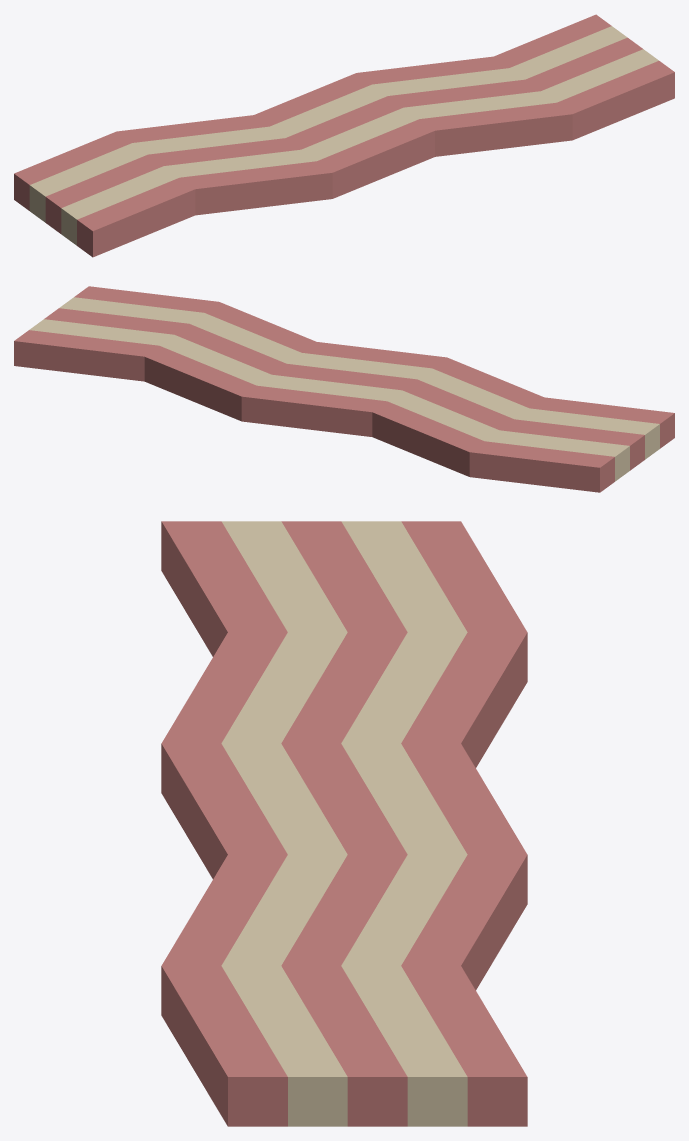
The model's file is bacon_2.glb.
3 renders of one model, top to bottom at view 1: azimuth 30°, elevation 25°; view 2: azimuth 150°, elevation 25°; view 3: azimuth 270°, elevation 25°, orthographic. The views are drawn at different scales.
Visible parts, largest first — view 1: bacon_2; view 2: bacon_2; view 3: bacon_2.
Boxes of the visible parts, x1=… form: bacon_2: x1=14, y1=14, x2=674, y2=257; bacon_2: x1=14, y1=286, x2=674, y2=492; bacon_2: x1=161, y1=521, x2=527, y2=1126.
Bounding box in the file's own units: 0.1839 × 0.00769 × 0.0512.
Materials: 1 (1 with a texture image).
